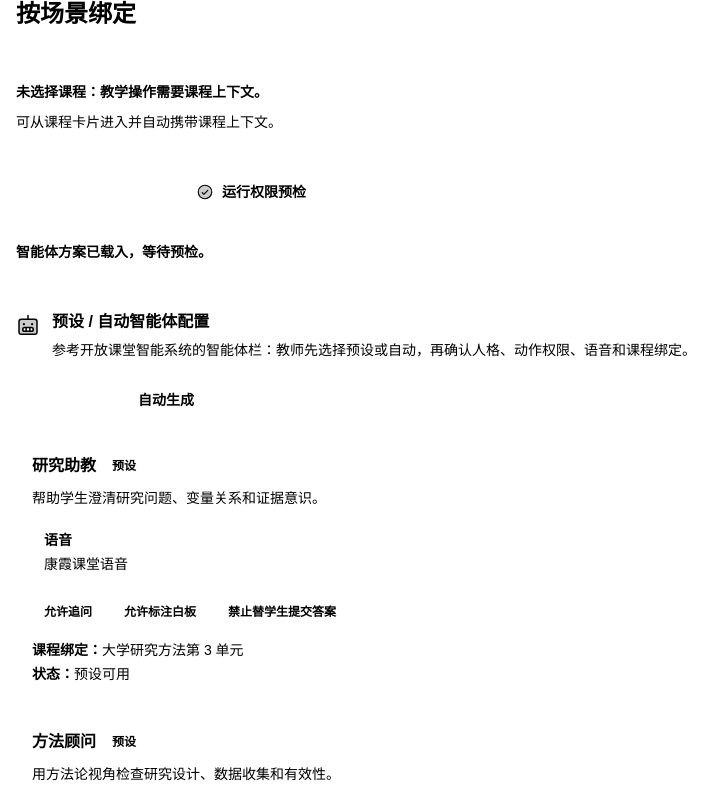
TeachingOperationPage › implements preset and auto agent setup with persona, permissions, voice, and course binding
The width and height of the screenshot is (704, 788).
(page scrolled)
Check: the heading "预设 / 自动智能体配置" is shown, box [52,313,209,330]
Check: the heading "研究助教" is shown, box [32,454,96,478]
What coordinates should you click on to do the following:
click the button "自动生成"
I would click on:
 (166, 400)
Its box is [122,382,210,418].
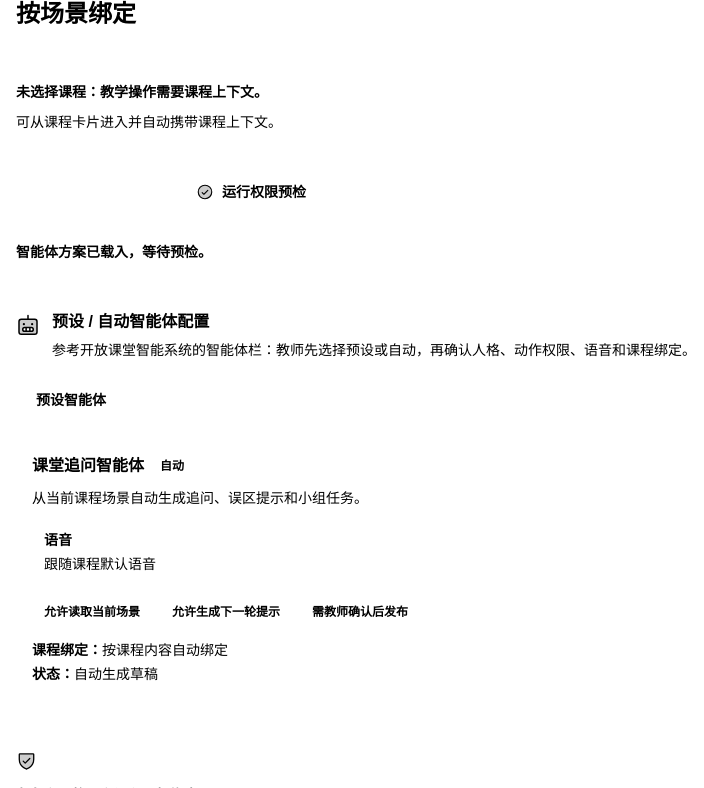
Check: the heading "课堂追问智能体" is shown, box [32,454,144,478]
Check: the text "按课程内容自动绑定" is shown, box [102,642,228,658]
Check: the text "需教师确认后发布" is shown, box [312,605,408,619]
